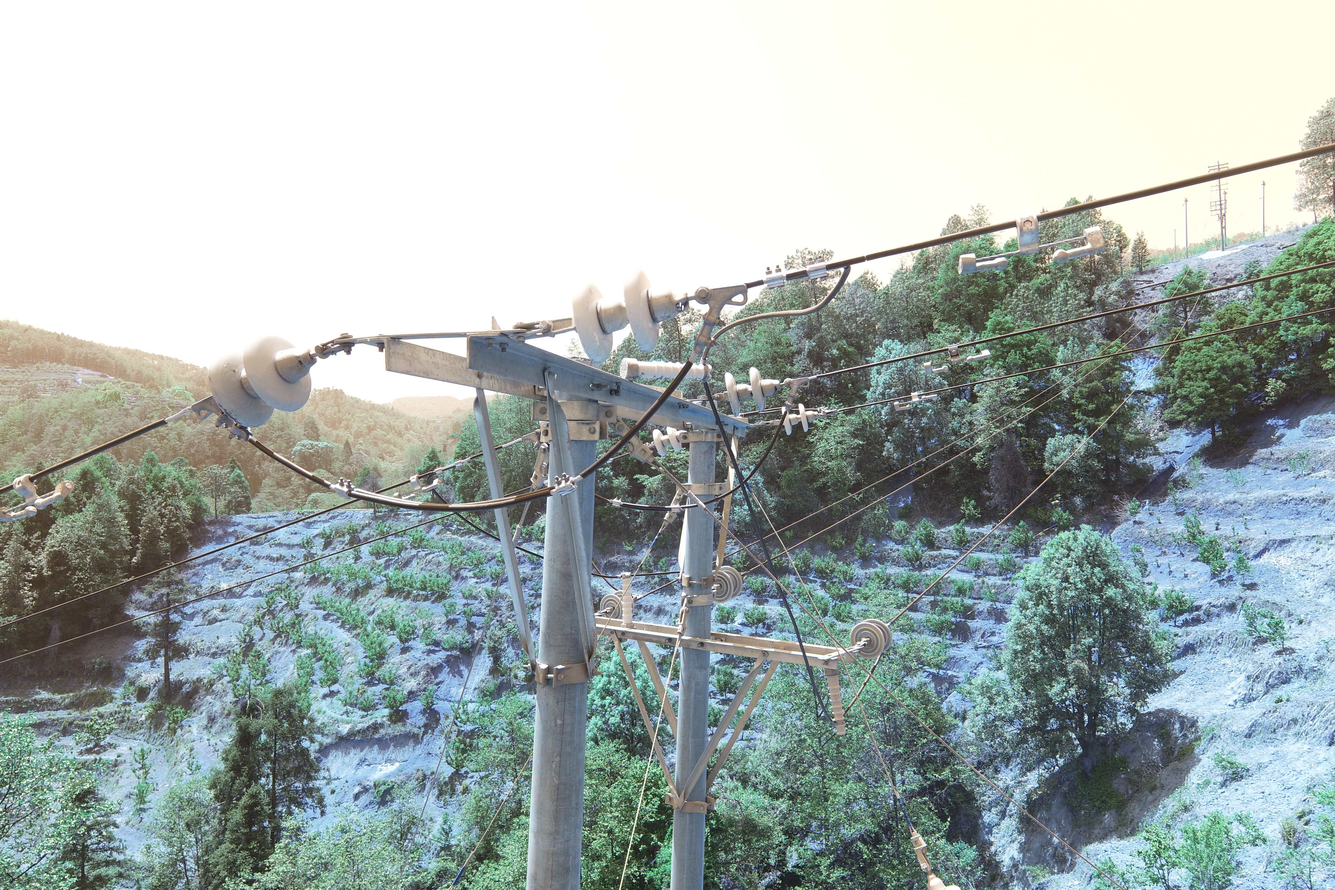severe_soiling_no_discharge_whole: (203, 346, 277, 430)
